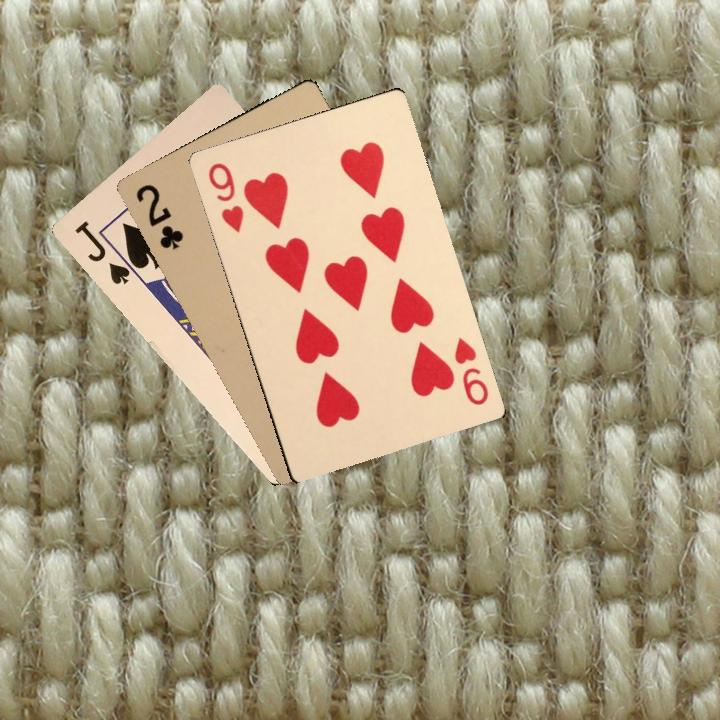2c: (131, 180, 187, 253)
9h: (204, 158, 246, 235), (450, 333, 491, 408)
Js: (70, 216, 139, 287)
